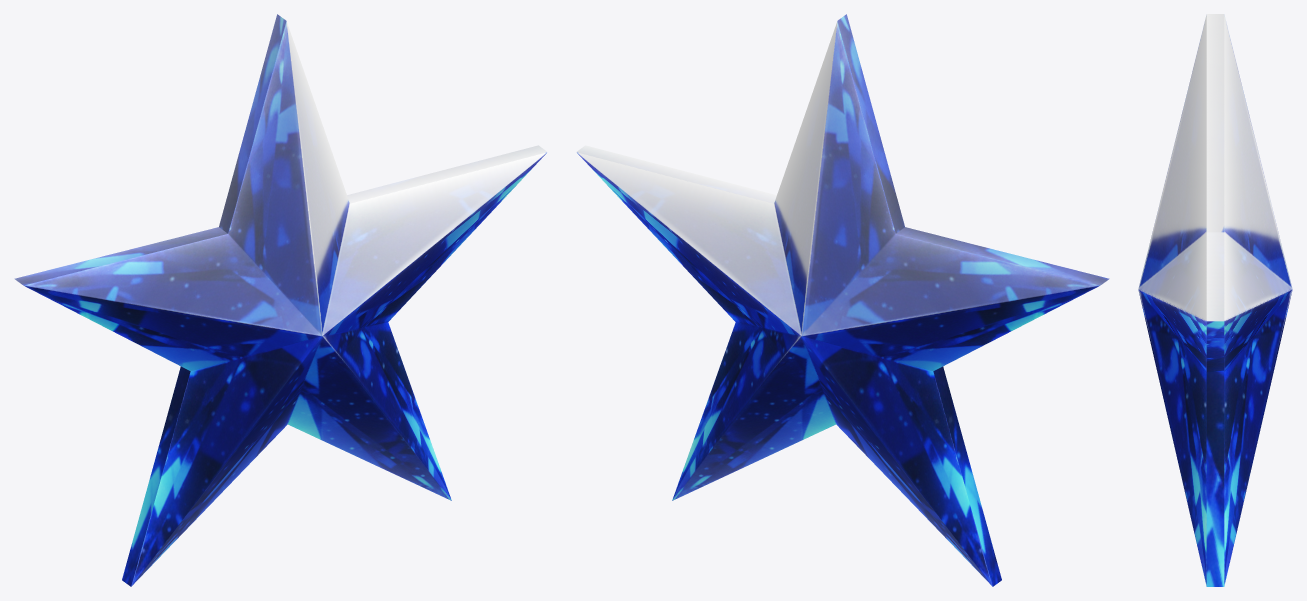
File: Star_Sapphire.glb
The picture shows the model from 3 angles, left to right: view 1: azimuth 30°, elevation 25°; view 2: azimuth 150°, elevation 25°; view 3: azimuth 270°, elevation 25°; orthographic projection. The views are drawn at different scales.
Parts seen in each view (by area): view 1: Star; view 2: Star; view 3: Star.
Boxes of the visible parts, x1=… form: Star: x1=14, y1=14, x2=547, y2=586; Star: x1=576, y1=14, x2=1109, y2=586; Star: x1=1138, y1=14, x2=1292, y2=586.
Bounding box in the file's own units: 64.2 × 61.81 × 17.18.
Materials: 1 (1 with a texture image).
